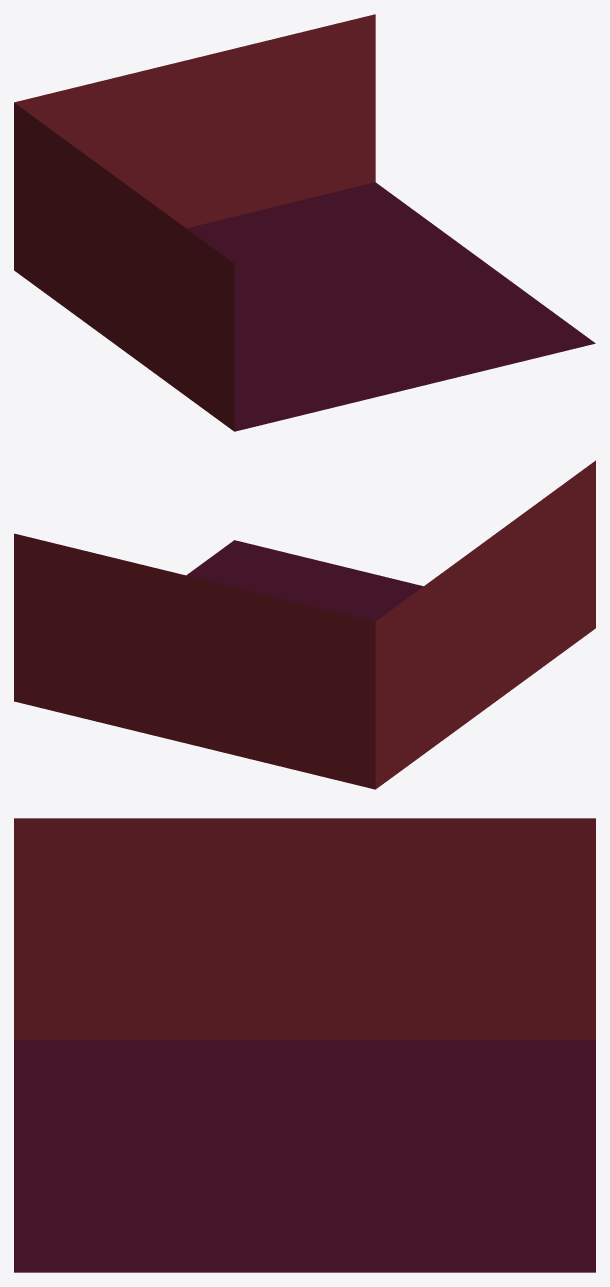
File: BarFloorWalls.fbx
3 renders of one model, top to bottom at view 1: azimuth 30°, elevation 25°; view 2: azimuth 150°, elevation 25°; view 3: azimuth 270°, elevation 25°, orthographic. The views are drawn at different scales.
Visible parts, largest first — view 1: Mesh_Room; view 2: Mesh_Room; view 3: Mesh_Room.
Boxes of the visible parts, left/top/right/bottom form: Mesh_Room: left=14, top=14, right=595, bottom=431; Mesh_Room: left=14, top=460, right=595, bottom=789; Mesh_Room: left=14, top=818, right=595, bottom=1272.
Bounding box in the file's own units: 723 × 321 × 764.
